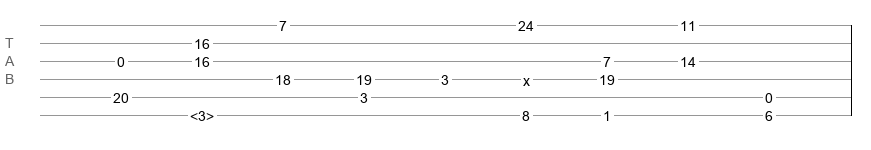0: (117, 54, 125, 64), (765, 90, 773, 100)
1: (603, 108, 611, 118)
11: (680, 18, 696, 28)
14: (680, 54, 696, 64)
16: (194, 54, 210, 64), (194, 36, 210, 46)
18: (275, 72, 291, 82)
19: (356, 72, 372, 82), (599, 72, 615, 82)
20: (113, 90, 129, 100)
24: (518, 18, 534, 28)
3: (360, 90, 368, 100), (441, 72, 449, 82)
6: (765, 108, 773, 118)
7: (279, 18, 287, 28), (603, 54, 611, 64)
8: (522, 108, 530, 118)
harmonic: (190, 108, 214, 118)
x: (523, 73, 530, 81)
